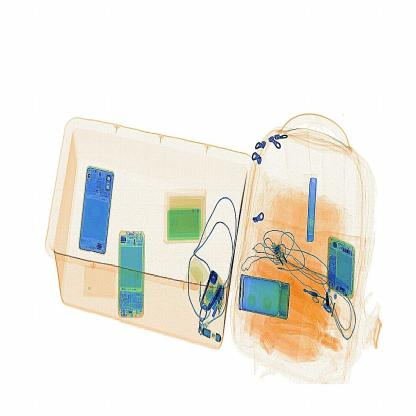pliers: (303, 171, 320, 249)
